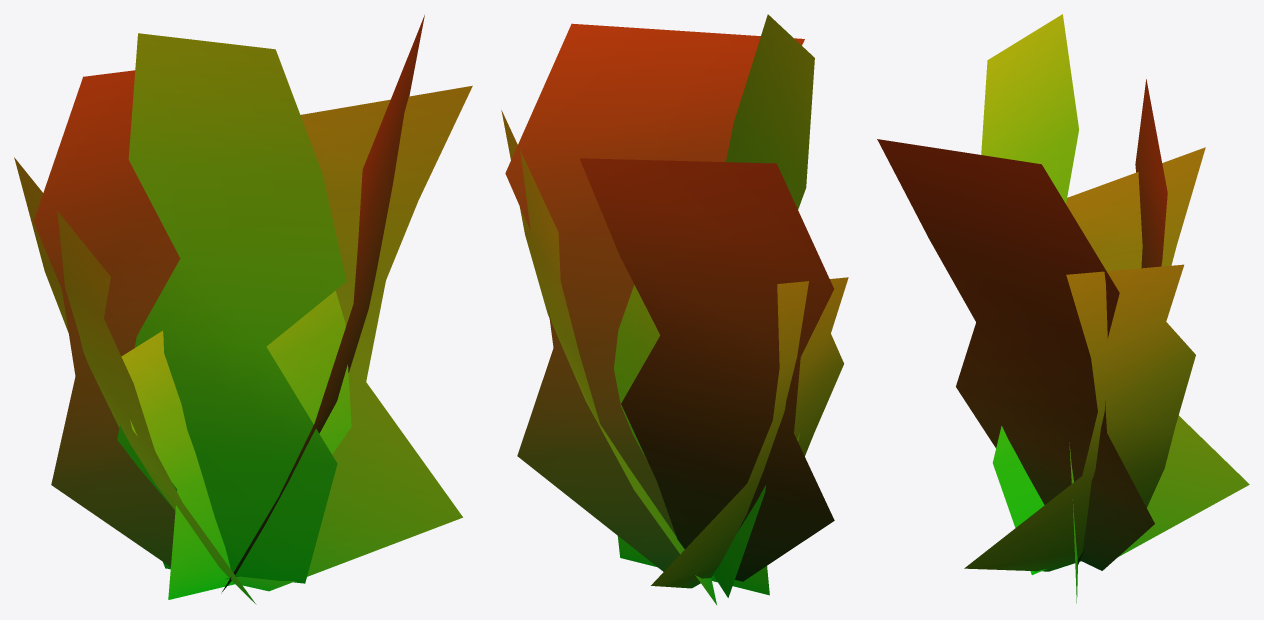
The model's file is Var8Hi32.fbx.
The picture shows the model from 3 angles, left to right: view 1: azimuth 30°, elevation 25°; view 2: azimuth 150°, elevation 25°; view 3: azimuth 270°, elevation 25°; orthographic projection. The views are drawn at different scales.
Parts seen in each view (by area): view 1: bend1; view 2: bend1; view 3: bend1.
Boxes of the visible parts, <box> form: bend1: <box>14,15,472,604</box>; bend1: <box>501,14,848,604</box>; bend1: <box>877,14,1249,603</box>.
Size of the model in its own units: 1.27 by 1.77 by 1.18.
